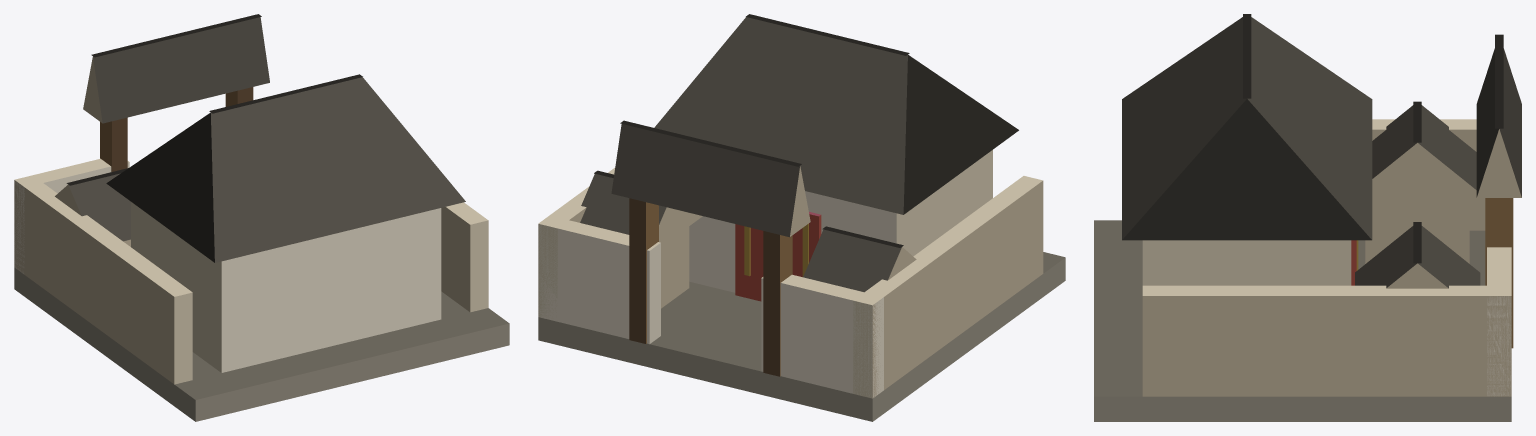
Rendered from bld_manor.glb.
The picture shows the model from 3 angles, left to right: view 1: azimuth 30°, elevation 25°; view 2: azimuth 150°, elevation 25°; view 3: azimuth 270°, elevation 25°; orthographic projection. The views are drawn at different scales.
Visible parts, largest first — view 1: bld_manor; view 2: bld_manor; view 3: bld_manor.
Boxes of the visible parts, bbox=[...] form: bld_manor: bbox=[14, 14, 509, 421]; bld_manor: bbox=[538, 14, 1065, 421]; bld_manor: bbox=[1094, 14, 1521, 421].
Size of the model in its own units: 1.2 by 0.88 by 1.23.
1 material, 1 textured.
